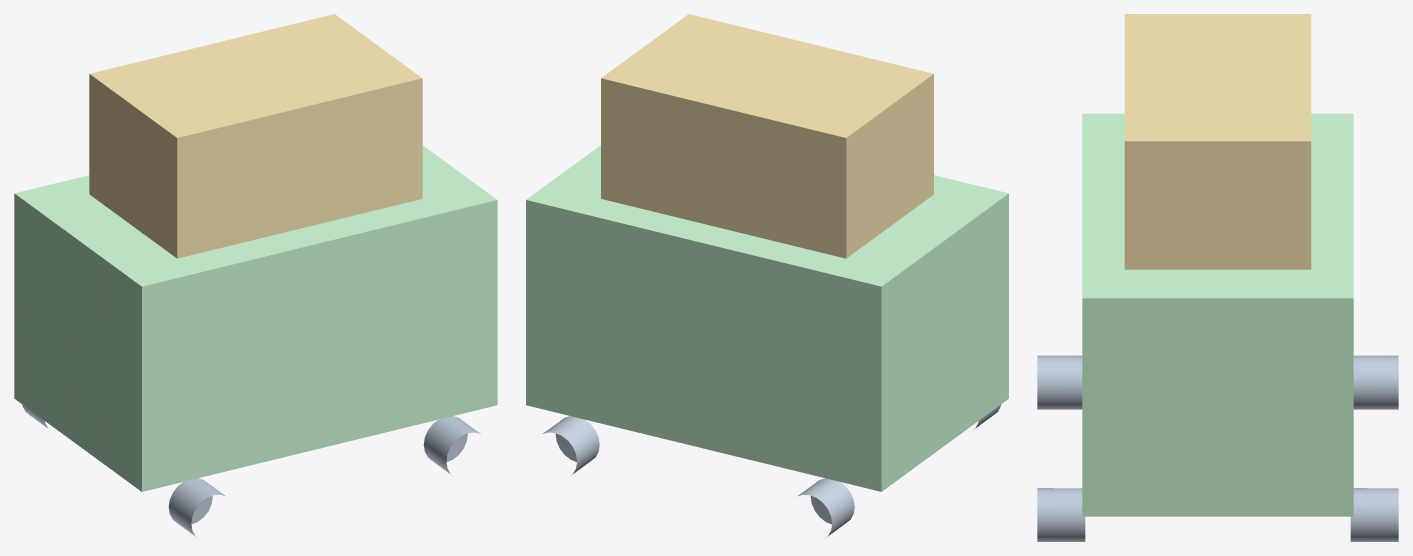
File: cloud-delivery-cart.glb
3 renders of one model, left to right at view 1: azimuth 30°, elevation 25°; view 2: azimuth 150°, elevation 25°; view 3: azimuth 270°, elevation 25°, orthographic. The views are drawn at different scales.
Parts seen in each view (by area): view 1: cloud-delivery-cart-cart-body, cloud-delivery-cart-cargo-box, cloud-delivery-cart-left-wheel-back, cloud-delivery-cart-left-wheel-front; view 2: cloud-delivery-cart-cart-body, cloud-delivery-cart-cargo-box, cloud-delivery-cart-right-wheel-back, cloud-delivery-cart-right-wheel-front; view 3: cloud-delivery-cart-cart-body, cloud-delivery-cart-cargo-box, cloud-delivery-cart-left-wheel-front, cloud-delivery-cart-right-wheel-front, cloud-delivery-cart-left-wheel-back, cloud-delivery-cart-right-wheel-back.
Boxes of the visible parts, x1,y1,x2,y2 form: cloud-delivery-cart-cart-body: (14, 145, 497, 491); cloud-delivery-cart-cargo-box: (89, 14, 422, 258); cloud-delivery-cart-left-wheel-back: (168, 478, 225, 537); cloud-delivery-cart-left-wheel-front: (423, 416, 480, 476); cloud-delivery-cart-cart-body: (526, 145, 1008, 491); cloud-delivery-cart-cargo-box: (601, 14, 933, 258); cloud-delivery-cart-right-wheel-back: (797, 478, 854, 537); cloud-delivery-cart-right-wheel-front: (543, 416, 599, 475); cloud-delivery-cart-cart-body: (1082, 113, 1353, 516); cloud-delivery-cart-cargo-box: (1124, 14, 1311, 269); cloud-delivery-cart-left-wheel-front: (1037, 488, 1085, 541); cloud-delivery-cart-right-wheel-front: (1350, 488, 1398, 541); cloud-delivery-cart-left-wheel-back: (1037, 355, 1082, 409); cloud-delivery-cart-right-wheel-back: (1353, 355, 1398, 409).
Bounding box in the file's own units: 1.45 × 1.45 × 1.2.
